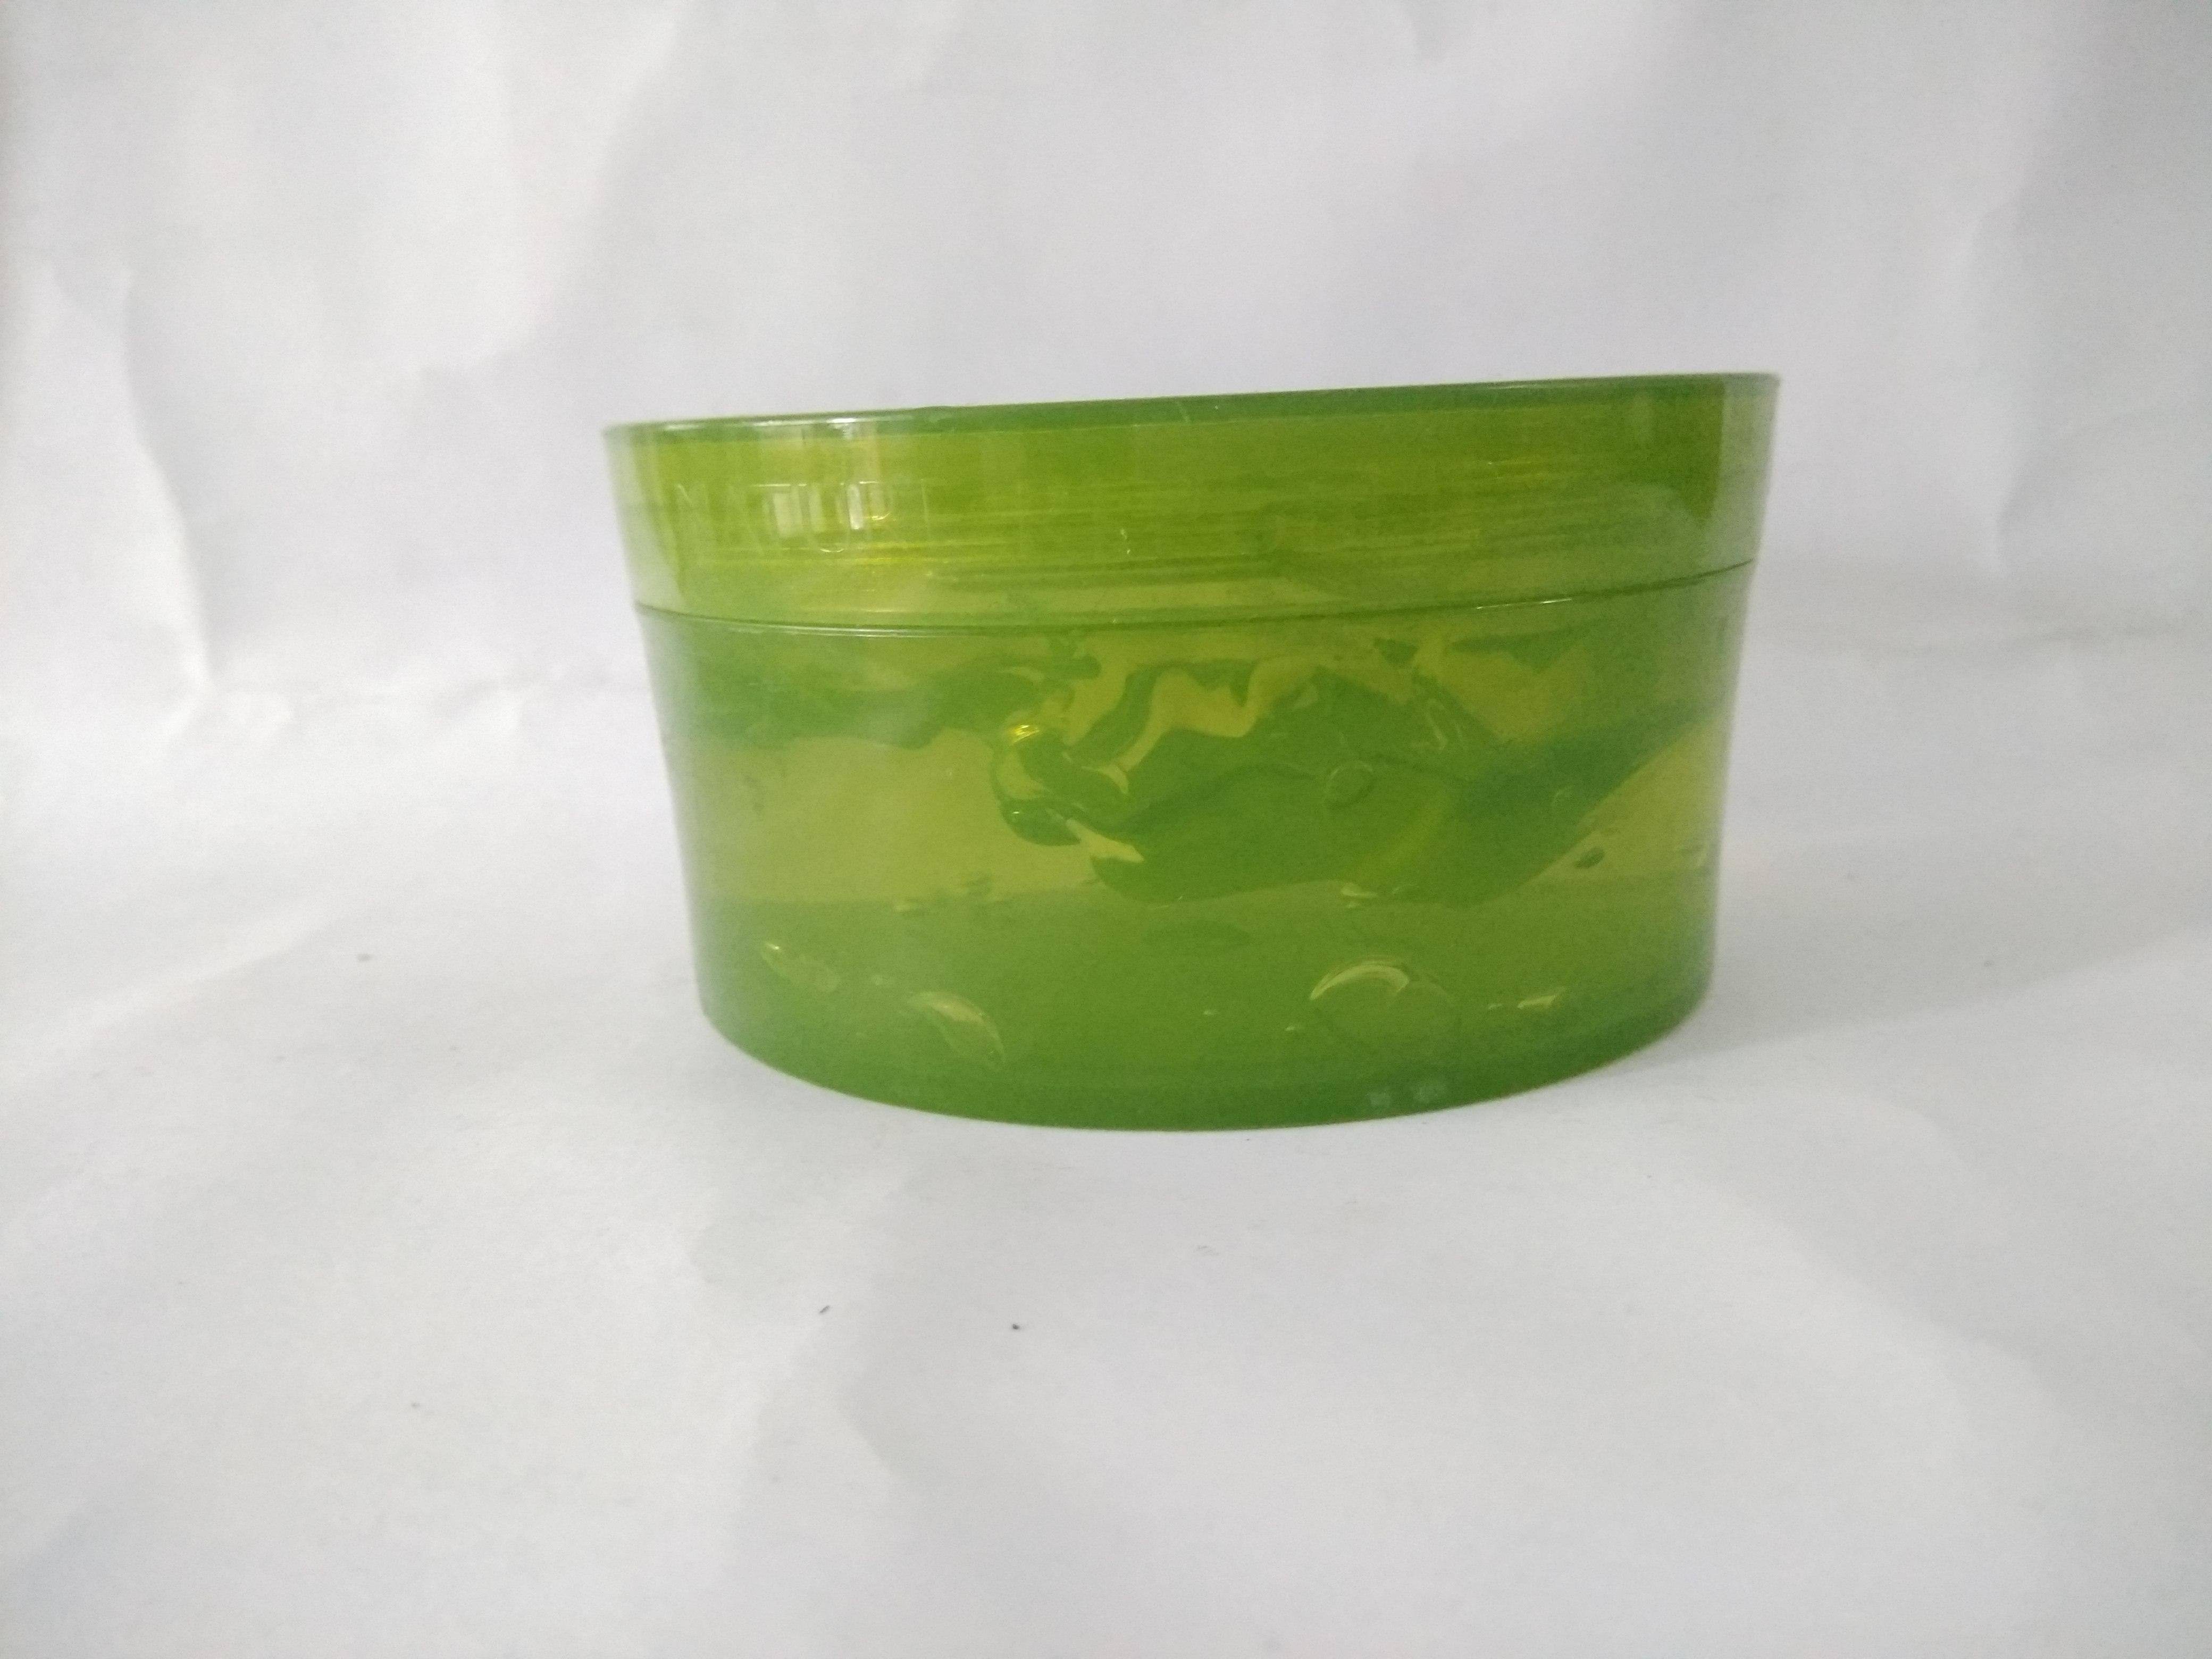PP: (606, 373, 1763, 1133)
